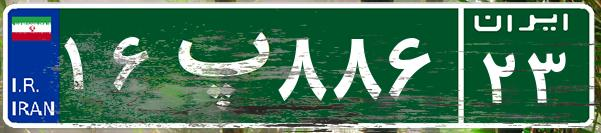1: (57, 26, 110, 107)
2: (475, 38, 525, 113)
3: (525, 38, 570, 115)
6: (385, 28, 445, 110), (110, 28, 158, 105)
8: (273, 28, 330, 110), (330, 28, 385, 110)
پ: (158, 15, 273, 115)
